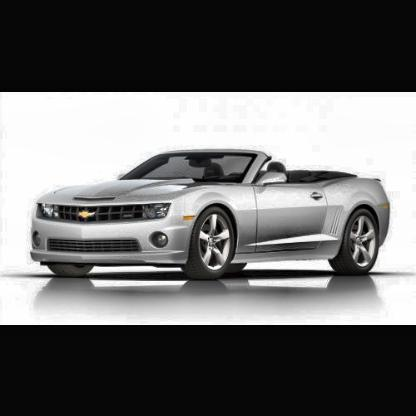Chevrolet Camaro Convertible 2012: (32, 152, 393, 278)
